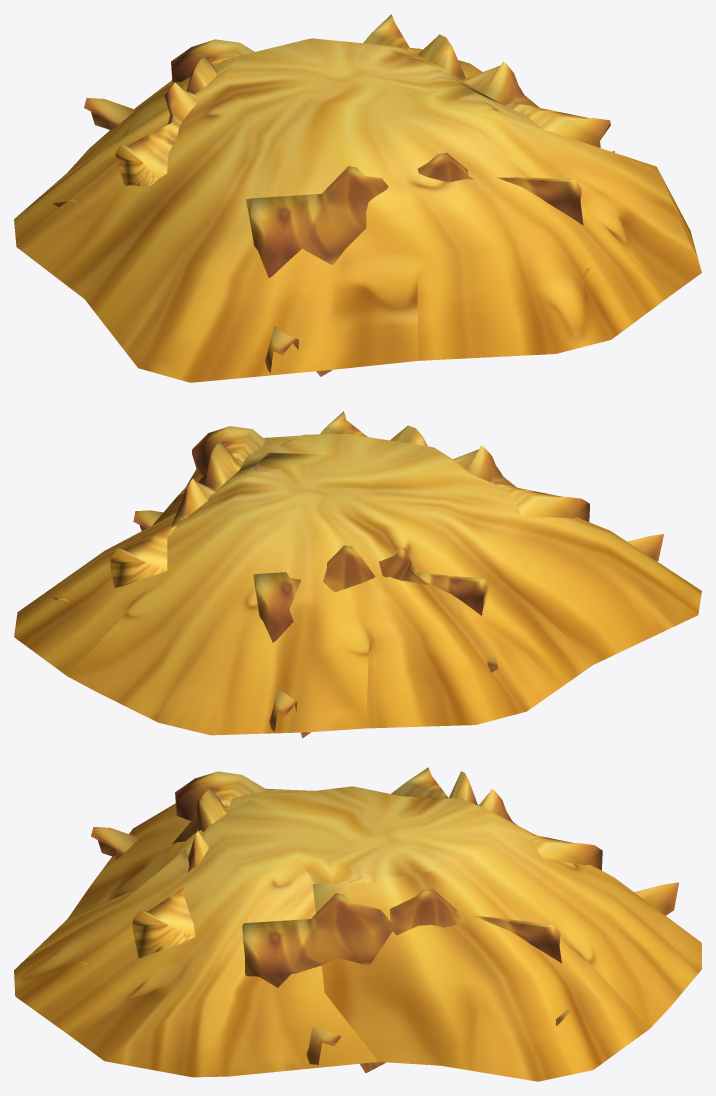
Rendered from Hay.fbx.
3 views of the same model, one above another, from view 1: azimuth 30°, elevation 25°; view 2: azimuth 150°, elevation 25°; view 3: azimuth 270°, elevation 25° (orthographic). The views are drawn at different scales.
Visible parts, largest first — view 1: Hay_garden; view 2: Hay_garden; view 3: Hay_garden.
Part boxes in pixels (left/top/right/bottom): Hay_garden: left=14, top=14, right=701, bottom=382; Hay_garden: left=14, top=411, right=701, bottom=738; Hay_garden: left=14, top=767, right=701, bottom=1081.
Bounding box in the file's own units: 263 × 69.05 × 289.
